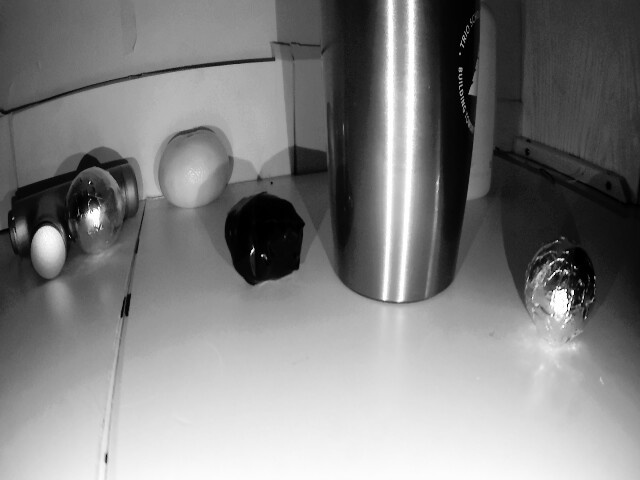black: (518, 234, 600, 352), (59, 166, 131, 254)
silver: (218, 188, 307, 288)
